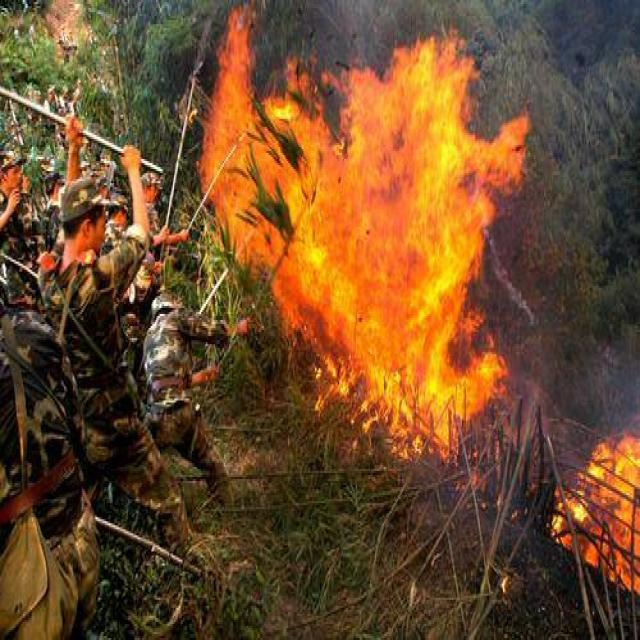Fire: (196, 0, 528, 461), (549, 427, 640, 598)
